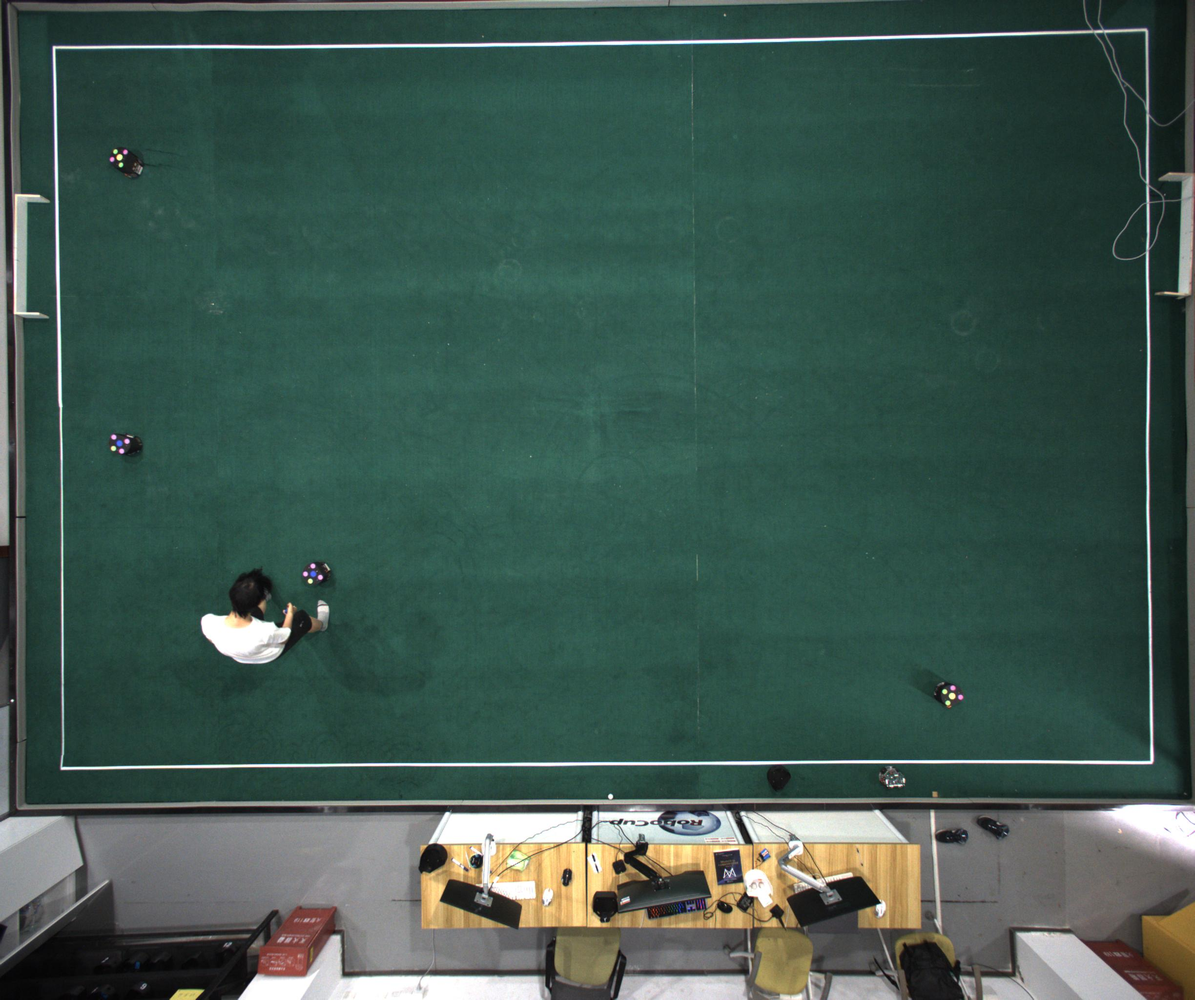blue_bot: (108, 433, 132, 455), (302, 563, 324, 585)
yellow_bot: (940, 685, 964, 706), (110, 147, 129, 169)
